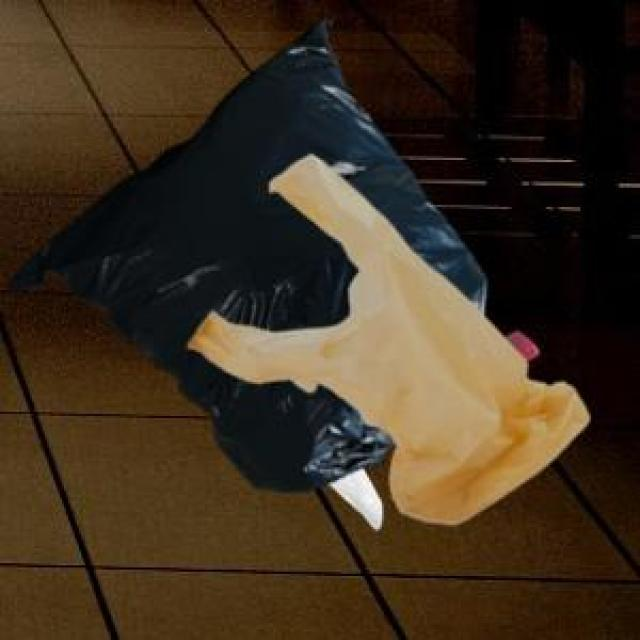miscellaneous trash: (4, 15, 533, 489)
